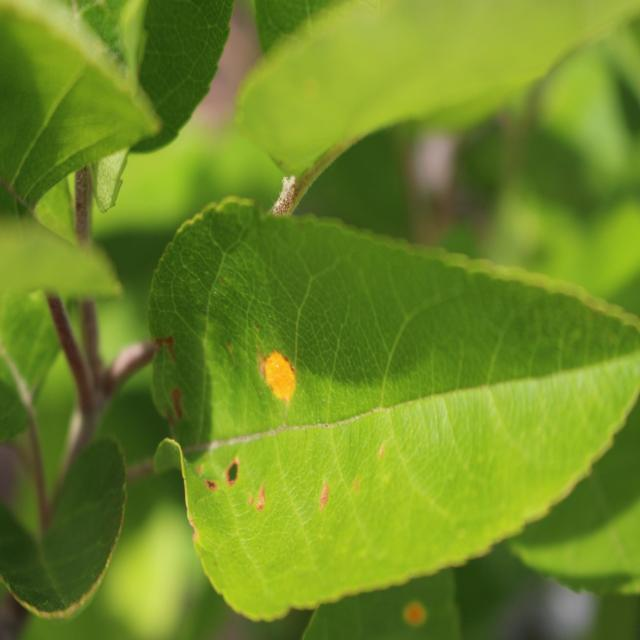Rust: (250, 341, 302, 420), (195, 454, 244, 506), (386, 598, 443, 640), (368, 416, 388, 488), (308, 478, 336, 516), (248, 483, 276, 519), (347, 462, 369, 505)
